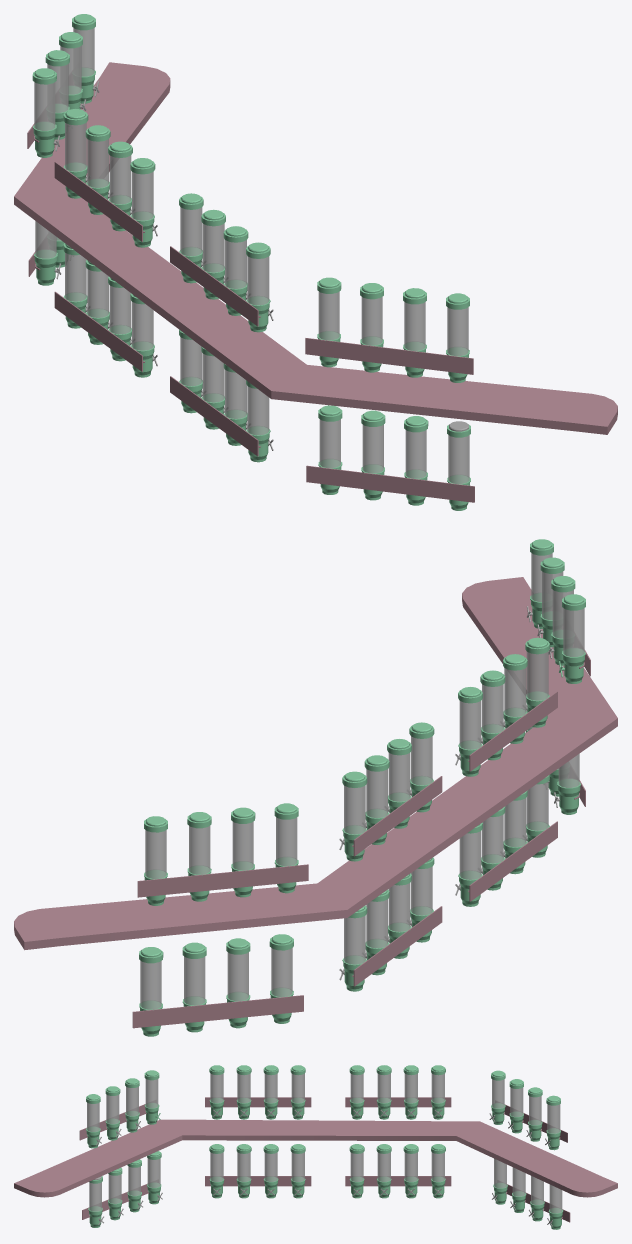
Rendered from CandyDispencers.fbx.
3 views of the same model, one above another, from view 1: azimuth 30°, elevation 25°; view 2: azimuth 150°, elevation 25°; view 3: azimuth 270°, elevation 25° (orthographic). The views are drawn at different scales.
Parts seen in each view (by area): view 1: pCylinder1, CandyDispencer_Tube (×28), CandyDispencersGroup_Back (×6), CandyDispencer_Base (×2); view 2: pCylinder1, CandyDispencer_Tube (×25), CandyDispencersGroup_Back (×6), CandyDispencer_Base (×2); view 3: pCylinder1, CandyDispencer_Tube (×32), CandyDispencer_Base (×32), CandyDispencersGroup_Back (×8).
Part boxes in pixels (<box>): pCylinder1: <box>14,62,617,434</box>; CandyDispencer_Tube (×28): <box>34,28,469,483</box>; CandyDispencersGroup_Back (×6): <box>54,161,474,502</box>; CandyDispencer_Base (×2): <box>33,122,57,285</box>; pCylinder1: <box>14,577,617,950</box>; CandyDispencer_Tube (×25): <box>140,608,584,1009</box>; CandyDispencersGroup_Back (×6): <box>132,691,557,1028</box>; CandyDispencer_Base (×2): <box>557,648,585,814</box>; pCylinder1: <box>14,1119,617,1197</box>; CandyDispencer_Tube (×32): <box>87,1073,562,1213</box>; CandyDispencer_Base (×32): <box>86,1098,563,1229</box>; CandyDispencersGroup_Back (×8): <box>79,1097,570,1222</box>.
Size of the model in its own units: 13.6 by 11.18 by 47.53.
